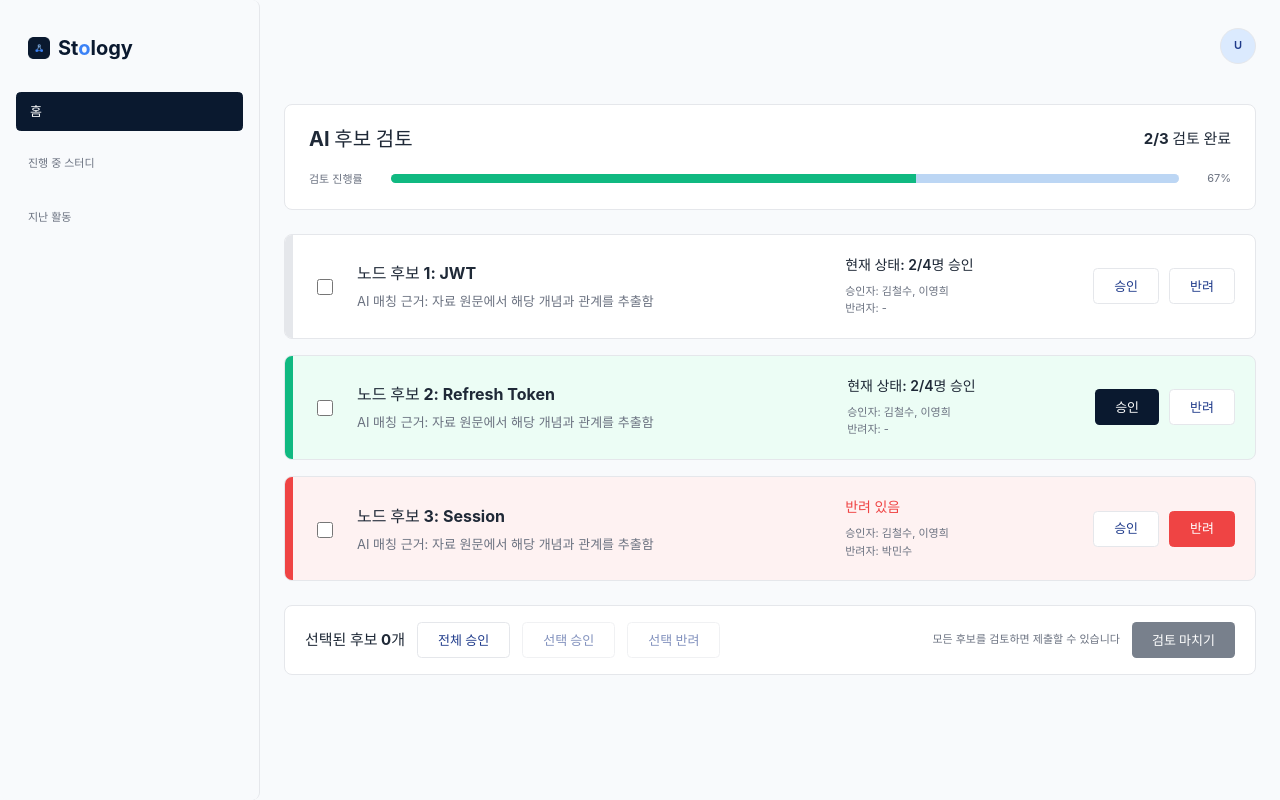
Test: ReviewPage › 선택한 후보만 일괄 승인한다
Click the checkbox named "JWT 후보 선택": (325, 287) [317,279,333,295]
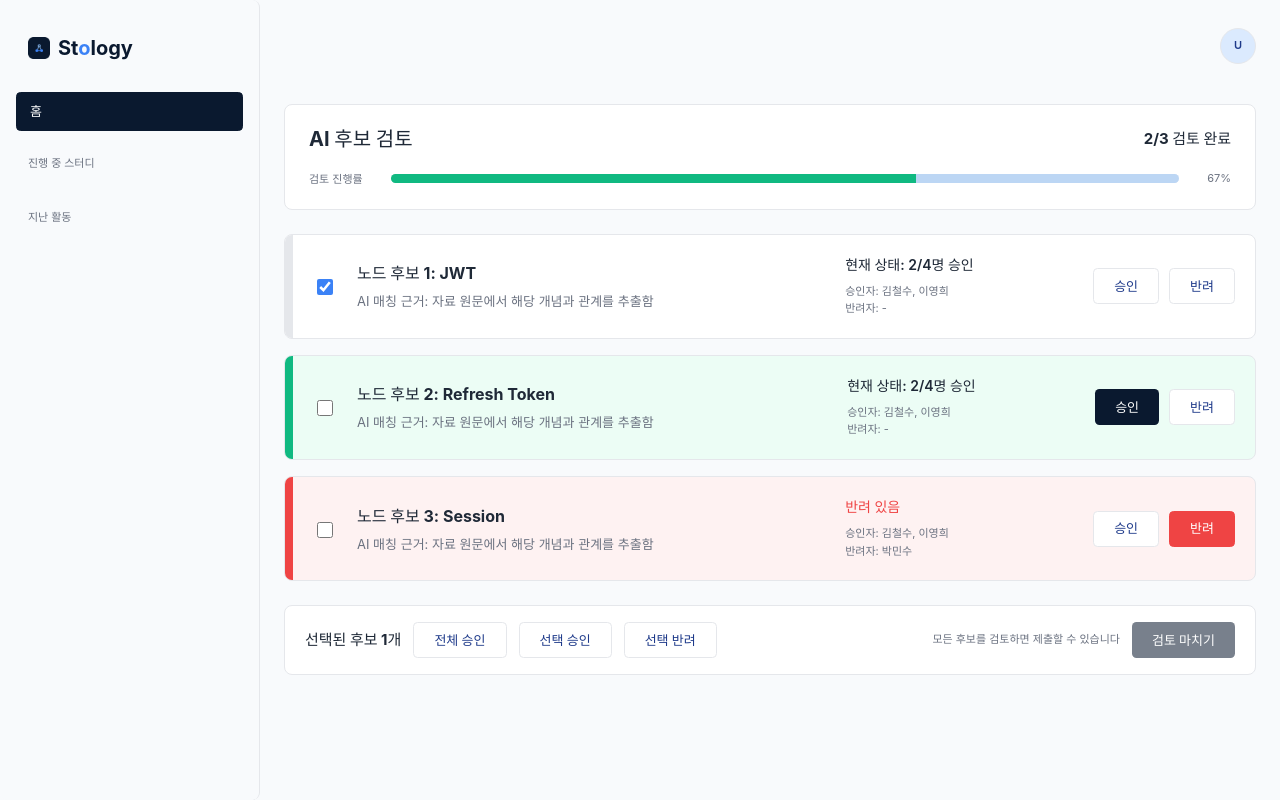
Click the button "선택 승인": (565, 640) [518,622,612,658]
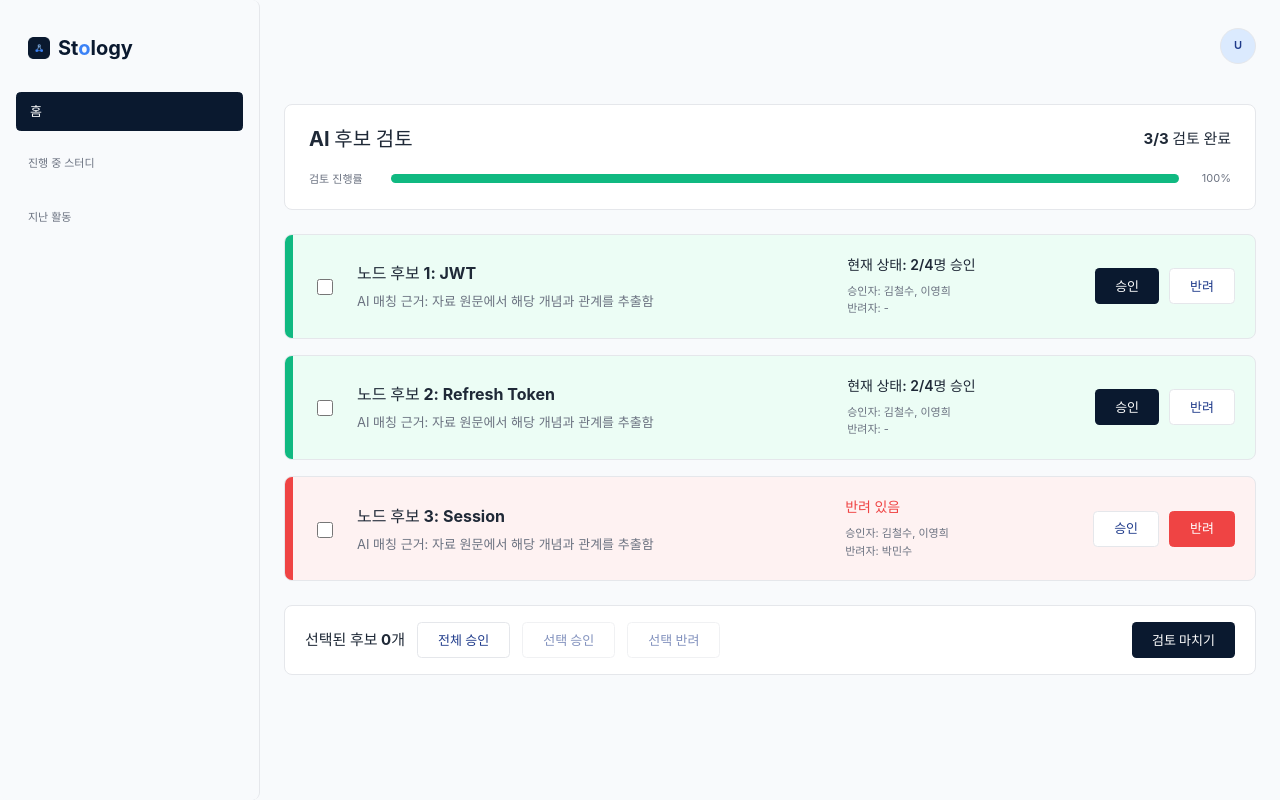
Check: the text "선택된 후보 0개" is shown, box [305,629,405,651]
